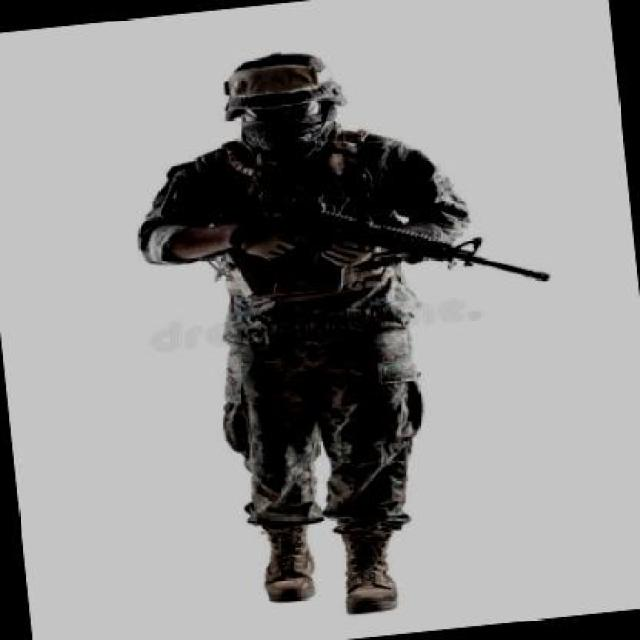MIL_Pax: (112, 30, 508, 635)
